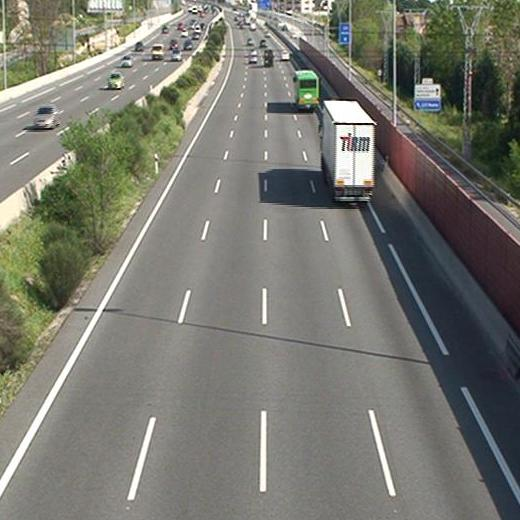bus: (292, 70, 319, 111)
car: (281, 50, 290, 62), (248, 53, 258, 63), (247, 48, 257, 57)
truck: (319, 100, 376, 206)
van: (263, 50, 274, 69)
